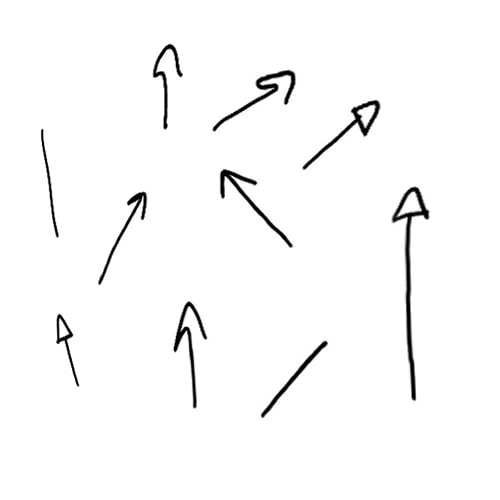arrow: (396, 184, 426, 402), (218, 168, 291, 246), (262, 340, 329, 418), (303, 100, 382, 165), (215, 68, 296, 129), (99, 191, 147, 281), (172, 298, 208, 409), (151, 44, 182, 128), (54, 312, 78, 388)
arrownohead: (37, 131, 62, 237)
